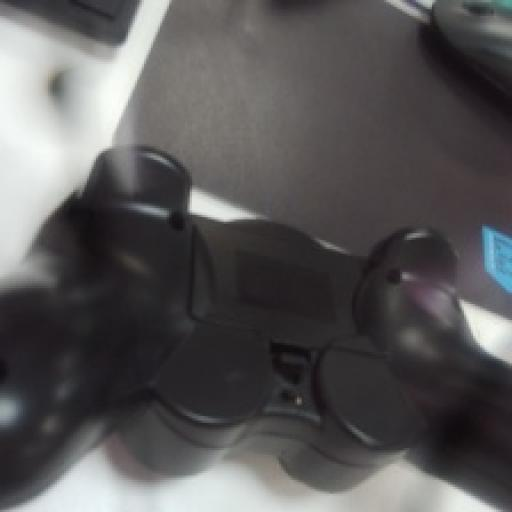game pad: (0, 146, 510, 505)
